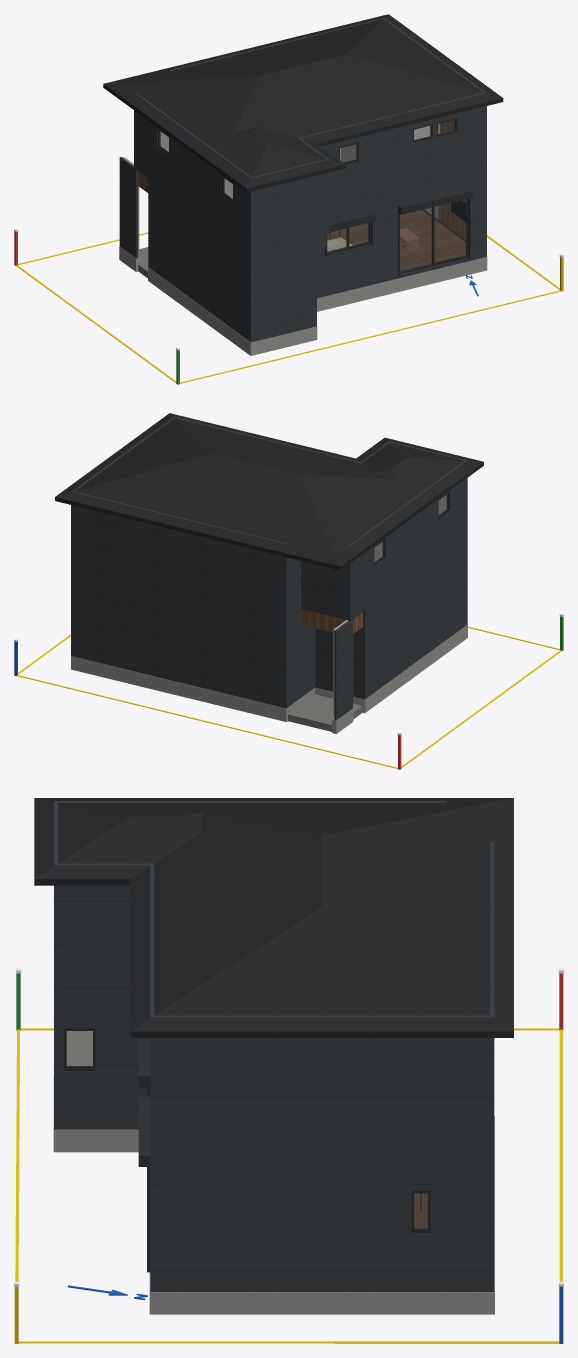
3 renders of one model, top to bottom at view 1: azimuth 30°, elevation 25°; view 2: azimuth 150°, elevation 25°; view 3: azimuth 270°, elevation 25°, orthographic. The views are drawn at different scales.
Visible parts, largest first — view 1: siding, roof, found, glass, floor, shutter, frame, lotline, wall, accent; view 2: siding, roof, found, lotline, tile, woodceil, wall; view 3: siding, roof, found, lotline, shutter, glass, wall, frame.
Part boxes in pixels (x1=…): siding: x1=119, y1=18, x2=486, y2=342; roof: x1=103, y1=14, x2=503, y2=192; found: x1=119, y1=246, x2=487, y2=355; glass: x1=160, y1=120, x2=465, y2=271; floor: x1=327, y1=210, x2=465, y2=270; shutter: x1=325, y1=188, x2=473, y2=275; frame: x1=158, y1=118, x2=468, y2=274; lotline: x1=16, y1=232, x2=560, y2=383; wall: x1=123, y1=123, x2=439, y2=253; accent: x1=438, y1=120, x2=465, y2=239; siding: x1=71, y1=417, x2=467, y2=720; roof: x1=55, y1=413, x2=483, y2=570; found: x1=71, y1=624, x2=467, y2=733; lotline: x1=17, y1=626, x2=561, y2=768; tile: x1=288, y1=694, x2=362, y2=731; woodceil: x1=302, y1=609, x2=362, y2=633; wall: x1=333, y1=495, x2=446, y2=715; siding: x1=54, y1=801, x2=494, y2=1291; roof: x1=34, y1=798, x2=513, y2=1037; found: x1=53, y1=1076, x2=494, y2=1314; lotline: x1=15, y1=1028, x2=562, y2=1343; shutter: x1=138, y1=1038, x2=150, y2=1272; glass: x1=67, y1=1031, x2=427, y2=1227; wall: x1=66, y1=1031, x2=92, y2=1065; frame: x1=64, y1=1028, x2=430, y2=1233.
Bounding box in the file's own units: 14.14 × 7.01 × 10.42.
31 materials, 6 textured.
